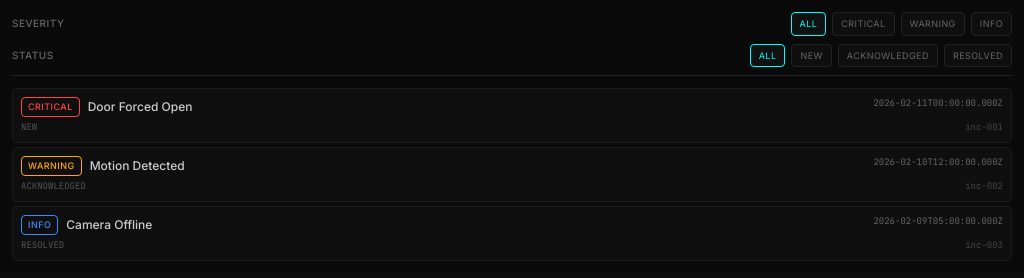
Test: IncidentListModule › filters by status
What coordinates should you click on to do the following:
click the button "Resolved"
I would click on:
 (978, 55)
Its box is [944,44,1012,67].
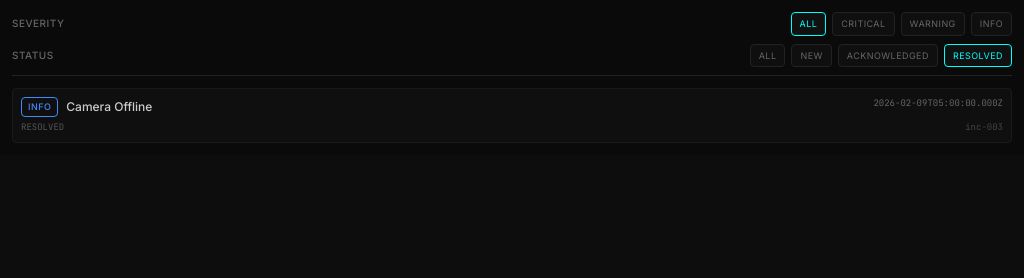
Expected: the text "Camera Offline" is shown, [66,99,152,115]
Expected: the button "Door Forced Open" is gone
Expected: the button "Motion Detected" is gone
